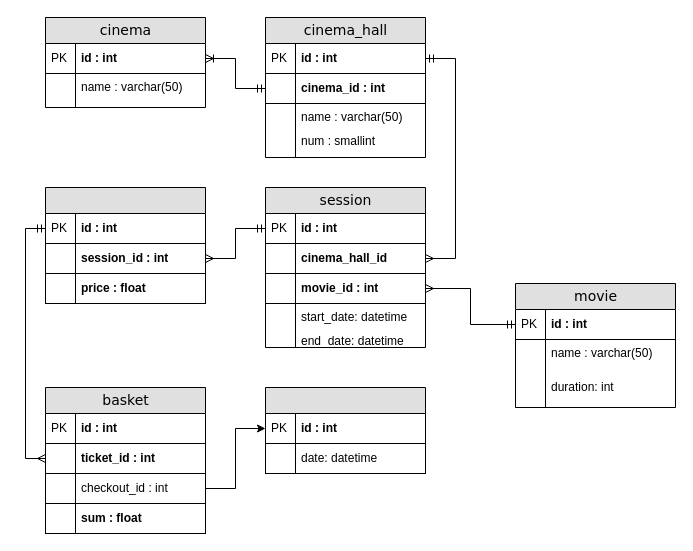
Some shapes in this 693 by 551 pixel diagram are drawn without their labels. The box of each missing label's shape, as (x1, y1, x2, y2) in pixels:
checkout: (264, 386, 426, 474)
ticket: (44, 186, 206, 304)
